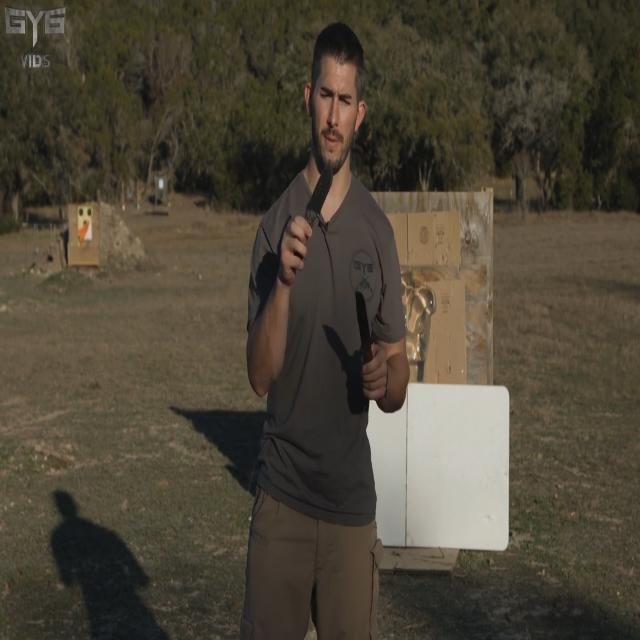knife: (305, 159, 340, 237), (353, 286, 376, 362)
